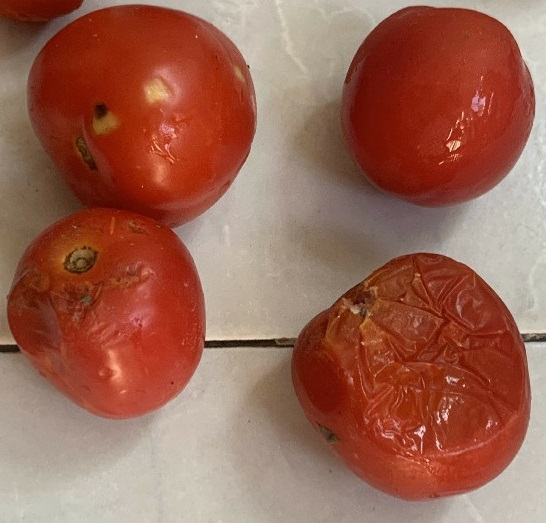NG: (280, 247, 536, 508), (17, 5, 263, 236), (5, 208, 209, 419)
OK: (338, 3, 541, 212)
